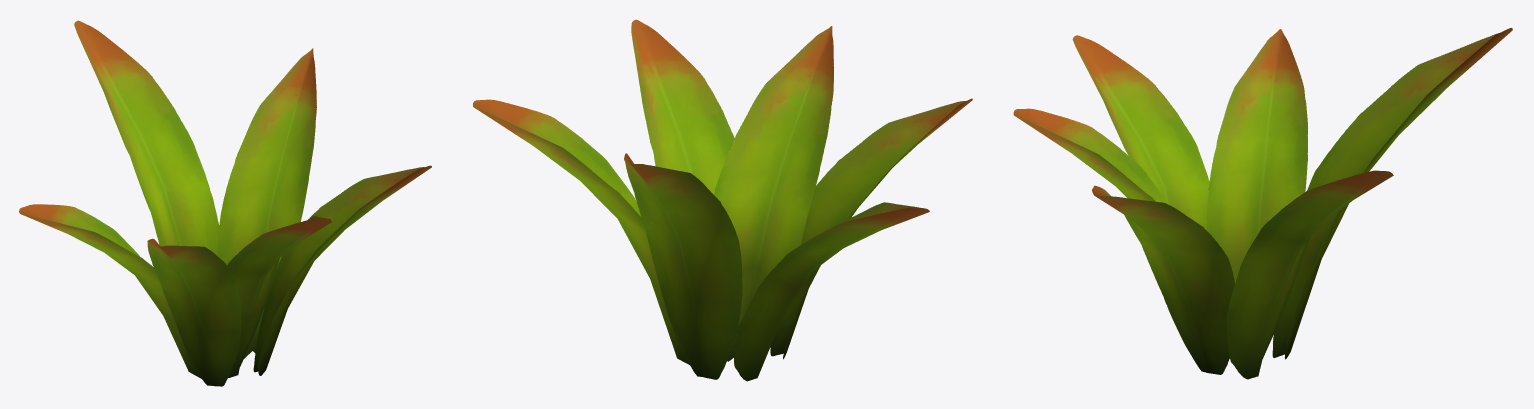
File: Plant_1.glb
3 renders of one model, left to right at view 1: azimuth 30°, elevation 25°; view 2: azimuth 150°, elevation 25°; view 3: azimuth 270°, elevation 25°, orthographic. The views are drawn at different scales.
Visible parts, largest first — view 1: Plant_1; view 2: Plant_1; view 3: Plant_1.
Part boxes in pixels (<box>): Plant_1: <box>19,20,431,386</box>; Plant_1: <box>473,19,972,381</box>; Plant_1: <box>1013,28,1512,379</box>.
Size of the model in its own units: 1.27 by 1.01 by 1.39.
Materials: 1 (1 with a texture image).
